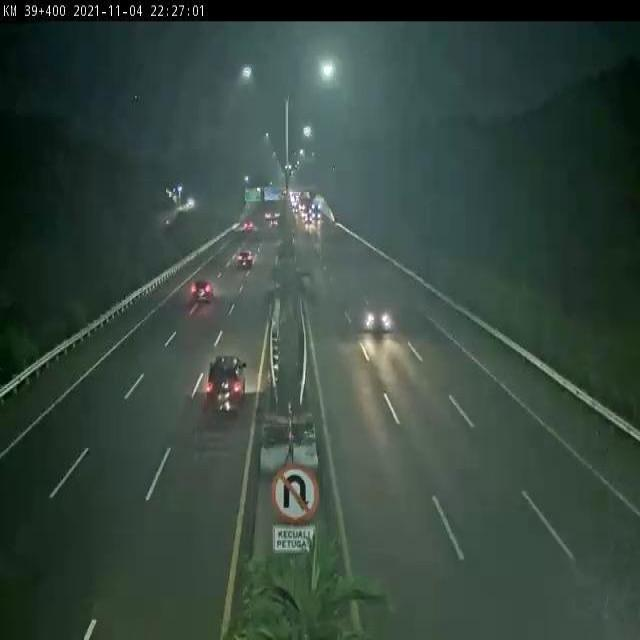car: (207, 359, 251, 417), (355, 286, 391, 331), (190, 280, 214, 304), (234, 249, 256, 272)
